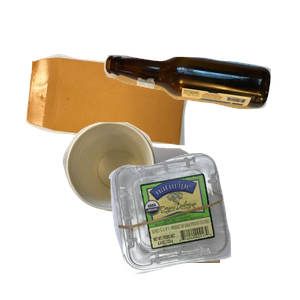glass: (101, 52, 300, 154)
paper: (23, 51, 206, 189)
plastic: (106, 151, 300, 300)
trash: (60, 120, 300, 300)
